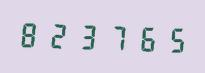eight: (17, 17, 44, 50)
five: (158, 21, 185, 55)
seven: (102, 19, 129, 53)
six: (130, 20, 157, 54)
three: (74, 19, 101, 52)
two: (45, 18, 72, 51)
